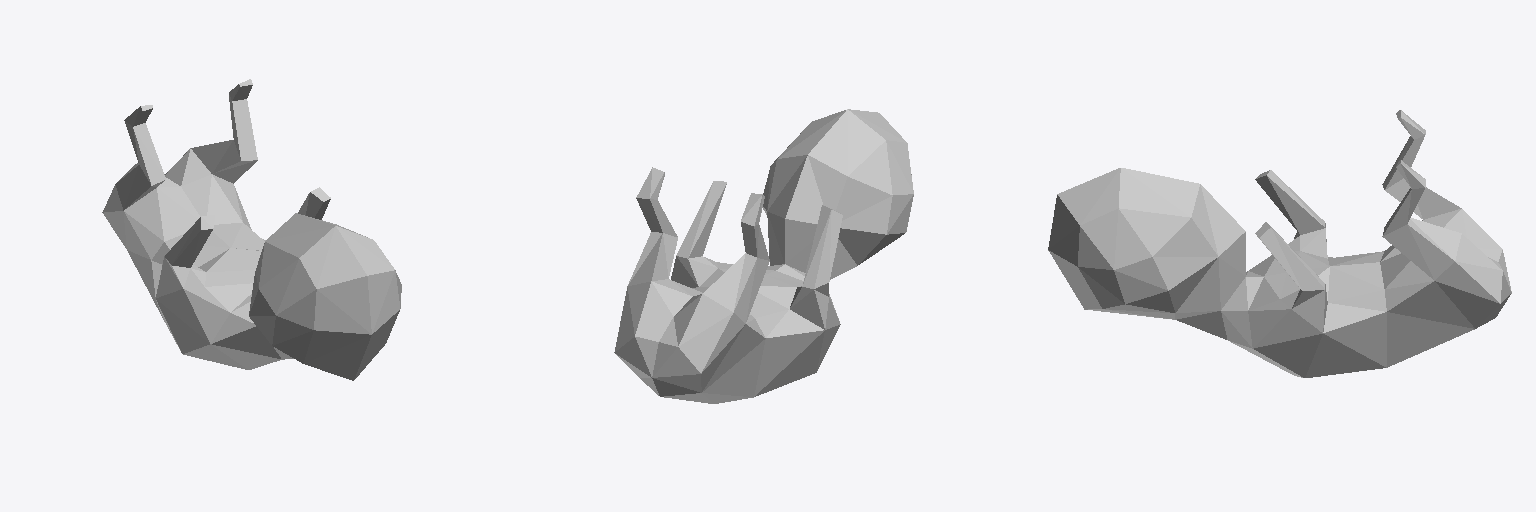
File: sikiotri.obj
3 renders of one model, left to right at view 1: azimuth 30°, elevation 25°; view 2: azimuth 150°, elevation 25°; view 3: azimuth 270°, elevation 25°, orthographic.
Visible parts, largest first — view 1: object001; view 2: object001; view 3: object001.
Boxes of the visible parts, x1,y1,x2,y2 form: object001: [102, 79, 401, 380]; object001: [614, 109, 913, 403]; object001: [1048, 110, 1511, 377].
Size of the model in its own units: 80 by 116 by 204.